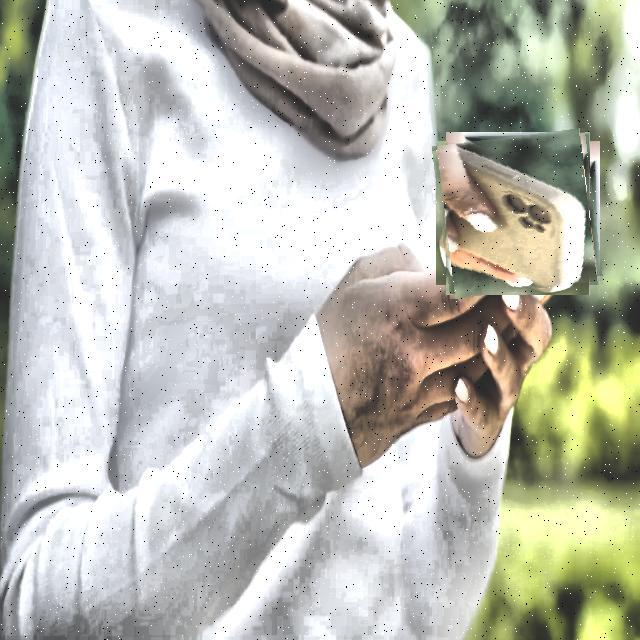Phone: (437, 132, 599, 295)
